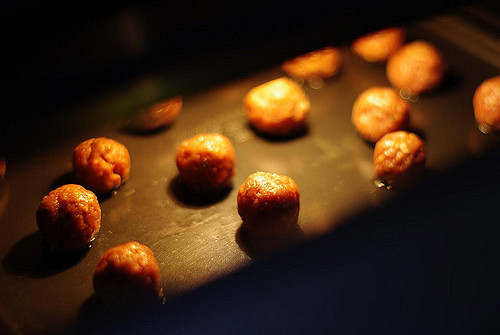meatballs: (237, 177, 302, 246), (41, 182, 111, 242), (69, 139, 136, 188), (174, 137, 229, 187)
